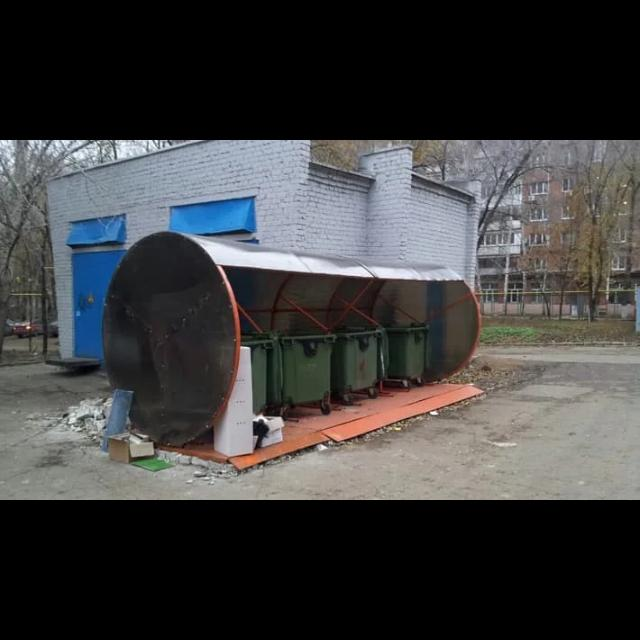Trash_Can_Empty: (264, 331, 330, 408), (323, 326, 380, 392), (377, 324, 430, 379), (241, 334, 275, 414)
